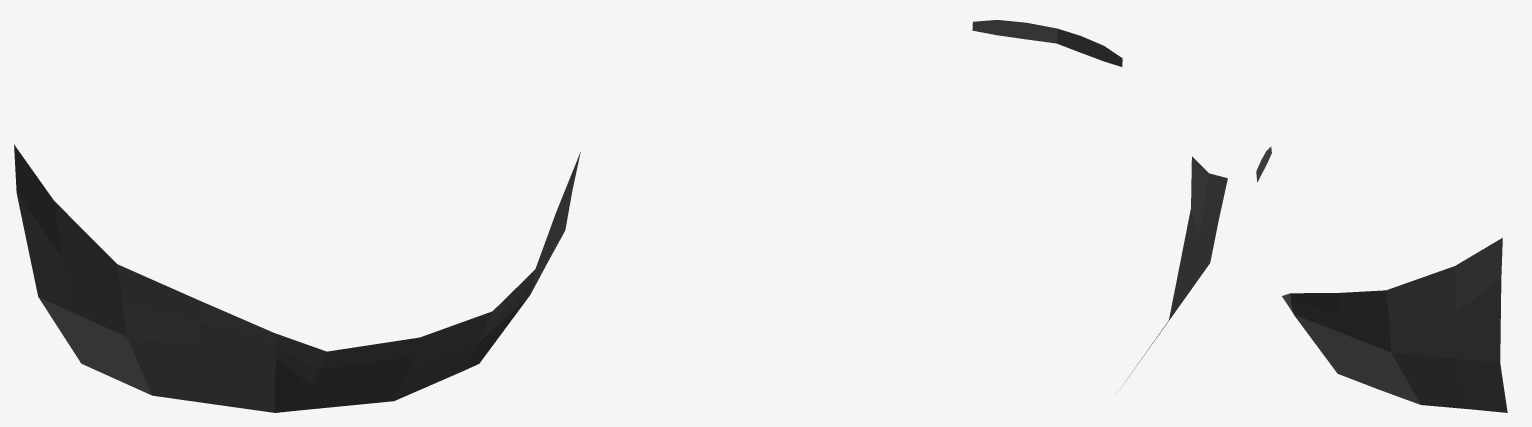
File: facial_hair_beard_01.glb
3 renders of one model, left to right at view 1: azimuth 30°, elevation 25°; view 2: azimuth 150°, elevation 25°; view 3: azimuth 270°, elevation 25°, orthographic. The views are drawn at different scales.
Visible parts, largest first — view 1: facial_hair_stubble_01; view 2: facial_hair_stubble_01; view 3: facial_hair_stubble_01.
Boxes of the visible parts, x1,y1,x2,y2 form: facial_hair_stubble_01: (14, 144, 580, 412); facial_hair_stubble_01: (972, 20, 1227, 385); facial_hair_stubble_01: (1256, 146, 1507, 412).
Size of the model in its own units: 0.2436 by 0.111 by 0.1204.
Materials: 1 (1 with a texture image).
